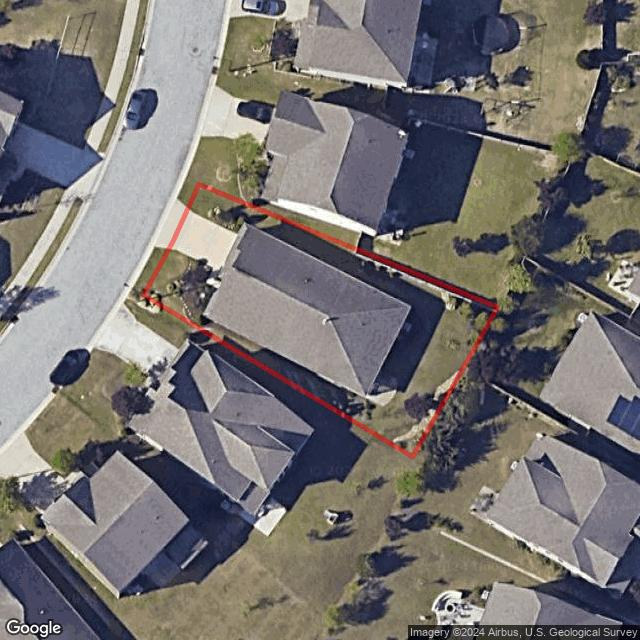Driveway: (168, 208, 238, 272)
Extra-Driveway: (155, 198, 187, 248)
Extra-Lawn: (131, 248, 171, 294), (177, 179, 200, 208)
House: (202, 221, 413, 398)
Lawn: (142, 185, 498, 456)
Other: (169, 256, 216, 327), (366, 371, 397, 409)
Sidewalk: (206, 267, 223, 291)
